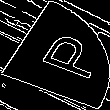P_NW: (14, 27, 96, 83)
